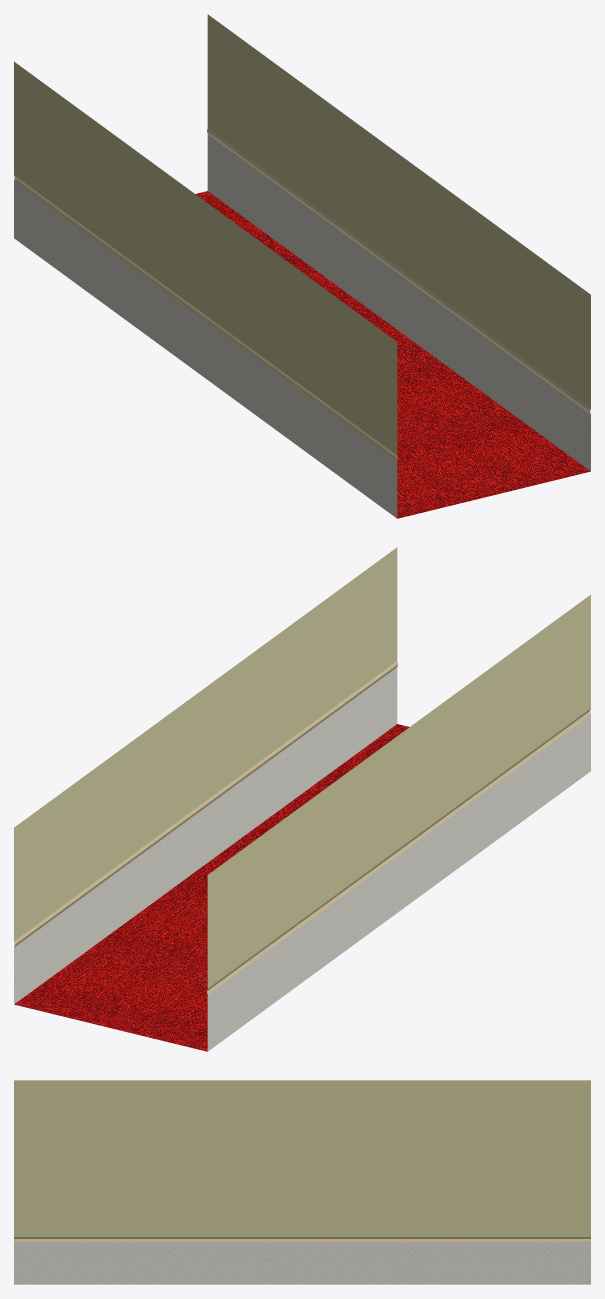
The model's file is SM_HotelCorridor_Constructed_Prototype_01.fbx.
The picture shows the model from 3 angles, top to bottom: view 1: azimuth 30°, elevation 25°; view 2: azimuth 150°, elevation 25°; view 3: azimuth 270°, elevation 25°; orthographic projection. The views are drawn at different scales.
Parts seen in each view (by area): view 1: Hotel01Constructed01; view 2: Hotel01Constructed01; view 3: Hotel01Constructed01.
Part boxes in pixels (left/top/right/bottom): Hotel01Constructed01: left=14, top=14, right=590, bottom=518; Hotel01Constructed01: left=14, top=547, right=590, bottom=1051; Hotel01Constructed01: left=14, top=1080, right=590, bottom=1284.
Bounding box in the file's own units: 1100 × 321 × 280.
